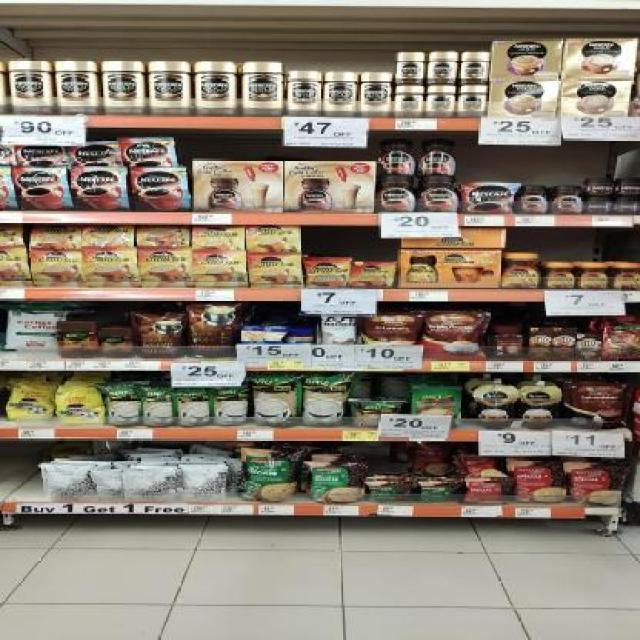Coffee: (9, 60, 53, 114), (133, 169, 184, 212), (105, 61, 144, 116), (244, 62, 282, 118), (152, 61, 190, 116), (76, 169, 124, 212), (58, 61, 96, 115), (198, 62, 236, 116), (18, 169, 68, 210), (86, 250, 136, 286), (143, 249, 190, 286), (34, 251, 80, 287), (252, 254, 300, 288), (196, 253, 243, 287), (466, 183, 512, 214), (324, 72, 355, 118), (361, 73, 392, 118), (123, 139, 174, 166), (420, 176, 458, 212), (290, 71, 319, 116), (249, 225, 296, 251), (380, 176, 413, 213), (504, 253, 538, 288), (195, 225, 242, 250), (307, 259, 350, 286), (421, 139, 454, 174), (381, 138, 412, 174), (33, 224, 78, 248), (86, 224, 132, 247), (517, 186, 548, 215), (460, 85, 487, 118), (397, 85, 424, 118), (74, 146, 118, 166), (18, 145, 64, 164), (397, 52, 424, 84), (428, 85, 454, 118), (430, 52, 456, 84), (462, 52, 488, 84), (554, 186, 581, 214), (581, 263, 607, 289), (548, 263, 575, 288), (615, 263, 640, 289), (586, 197, 614, 214), (587, 179, 614, 196), (616, 196, 639, 214), (617, 177, 640, 194)
